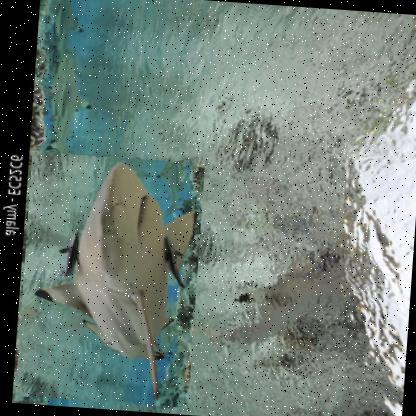zebra_shark: (15, 149, 206, 407)
